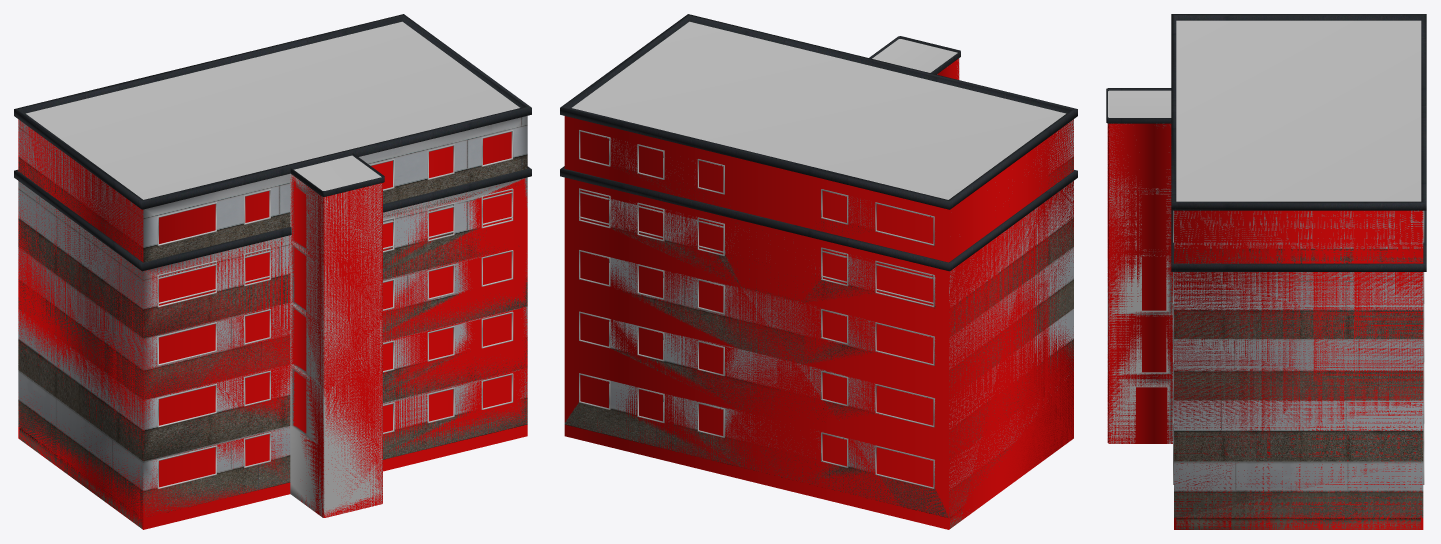
File: mehrfamilienhaus_04.fbx
3 views of the same model, side by side, from view 1: azimuth 30°, elevation 25°; view 2: azimuth 150°, elevation 25°; view 3: azimuth 270°, elevation 25° (orthographic).
Parts seen in each view (by area): view 1: mehrfamilienhaus_04b, mehrfamilienhaus_04a, colmesh_mehrfamilienhaus_04a, colmesh_mehrfamilienhaus_04b; view 2: colmesh_mehrfamilienhaus_04b, mehrfamilienhaus_04b, mehrfamilienhaus_04a, colmesh_mehrfamilienhaus_04a; view 3: mehrfamilienhaus_04b, mehrfamilienhaus_04a, colmesh_mehrfamilienhaus_04b, colmesh_mehrfamilienhaus_04a.
Part boxes in pixels (x1,y1,x2,y2): mehrfamilienhaus_04b: (14, 14, 531, 517); mehrfamilienhaus_04a: (14, 166, 531, 528); colmesh_mehrfamilienhaus_04a: (18, 178, 527, 529); colmesh_mehrfamilienhaus_04b: (18, 119, 511, 529); colmesh_mehrfamilienhaus_04b: (564, 58, 1073, 529); mehrfamilienhaus_04b: (560, 14, 1077, 303); mehrfamilienhaus_04a: (560, 166, 1077, 528); colmesh_mehrfamilienhaus_04a: (564, 181, 1073, 529); mehrfamilienhaus_04b: (1106, 14, 1426, 443); mehrfamilienhaus_04a: (1171, 210, 1426, 529); colmesh_mehrfamilienhaus_04b: (1107, 123, 1423, 529); colmesh_mehrfamilienhaus_04a: (1174, 272, 1423, 529).
Bounding box in the file's own units: 1544 × 1245 × 1101.
